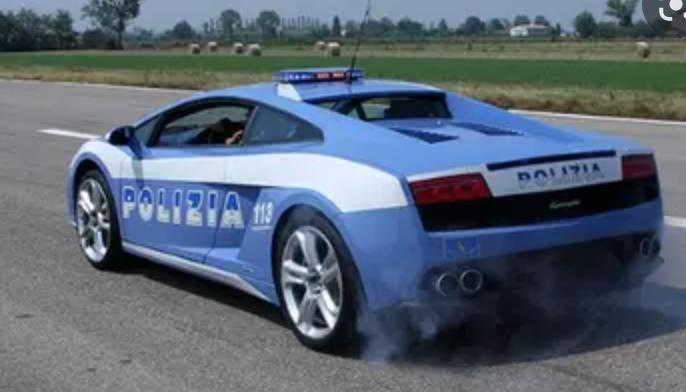car: (54, 42, 668, 353)
